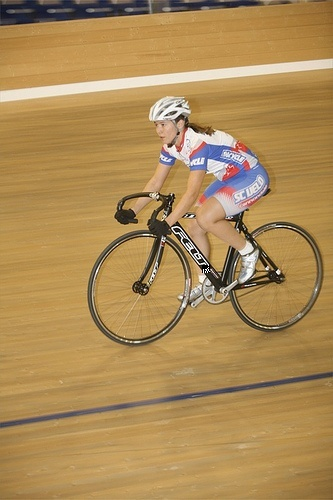car: (78, 178, 326, 353)
person: (116, 96, 274, 312)
person/foot: (238, 248, 261, 284), (175, 285, 213, 302)
person/hand: (112, 208, 134, 224), (150, 220, 170, 236)
person/head: (156, 97, 187, 145)
